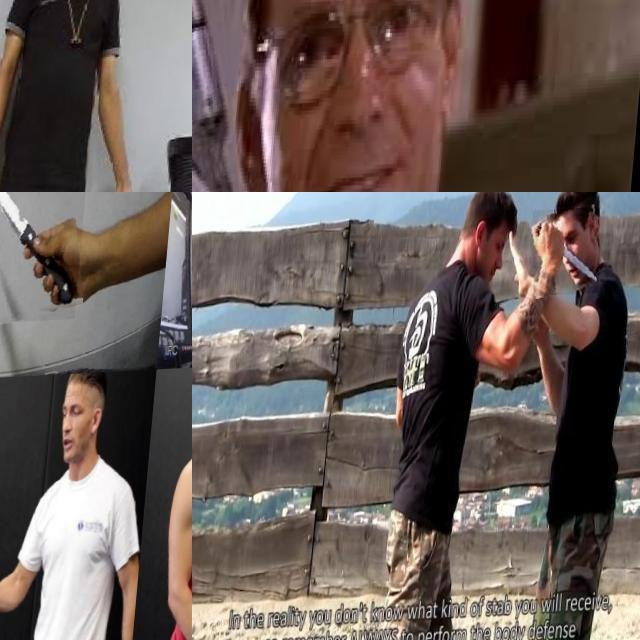-: (0, 192, 92, 326), (530, 212, 608, 301), (0, 544, 40, 634)
gun-knife-thesis - v11 Yolov5 augmented: (192, 0, 286, 192)
